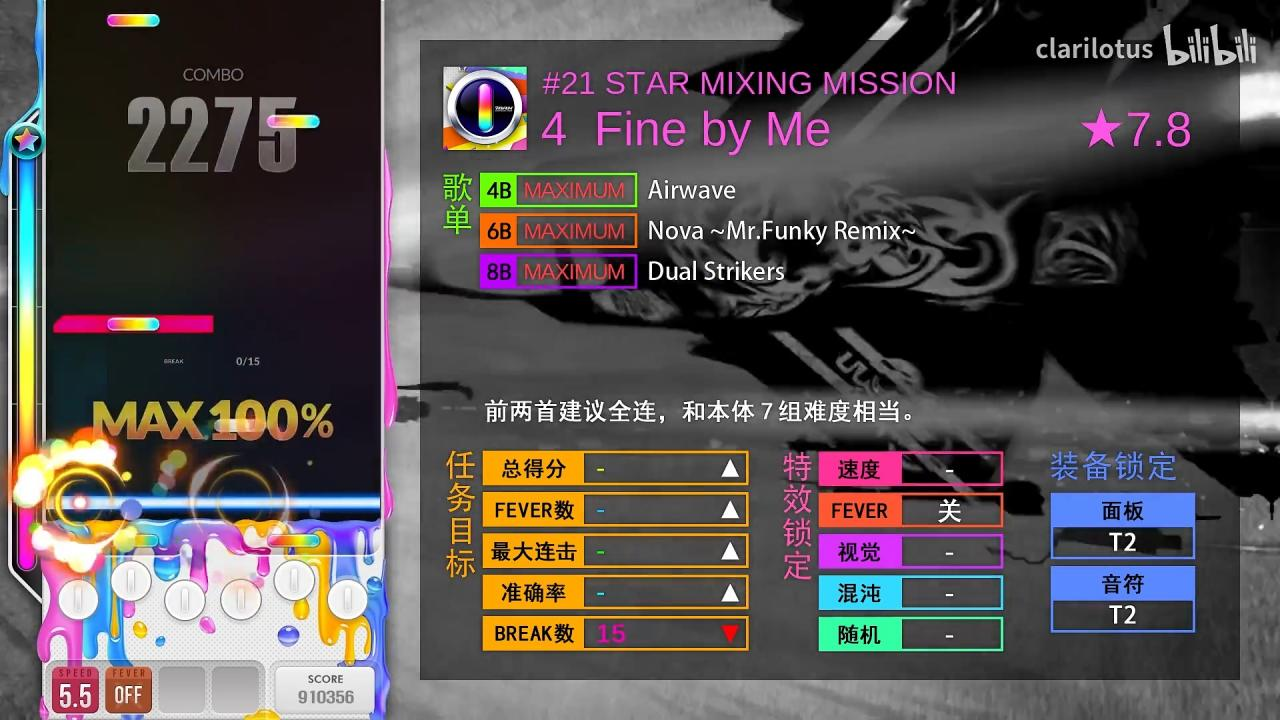note: (106, 317, 161, 332), (267, 114, 320, 129), (107, 14, 160, 28), (214, 418, 267, 432)
xnote: (54, 315, 214, 333)
